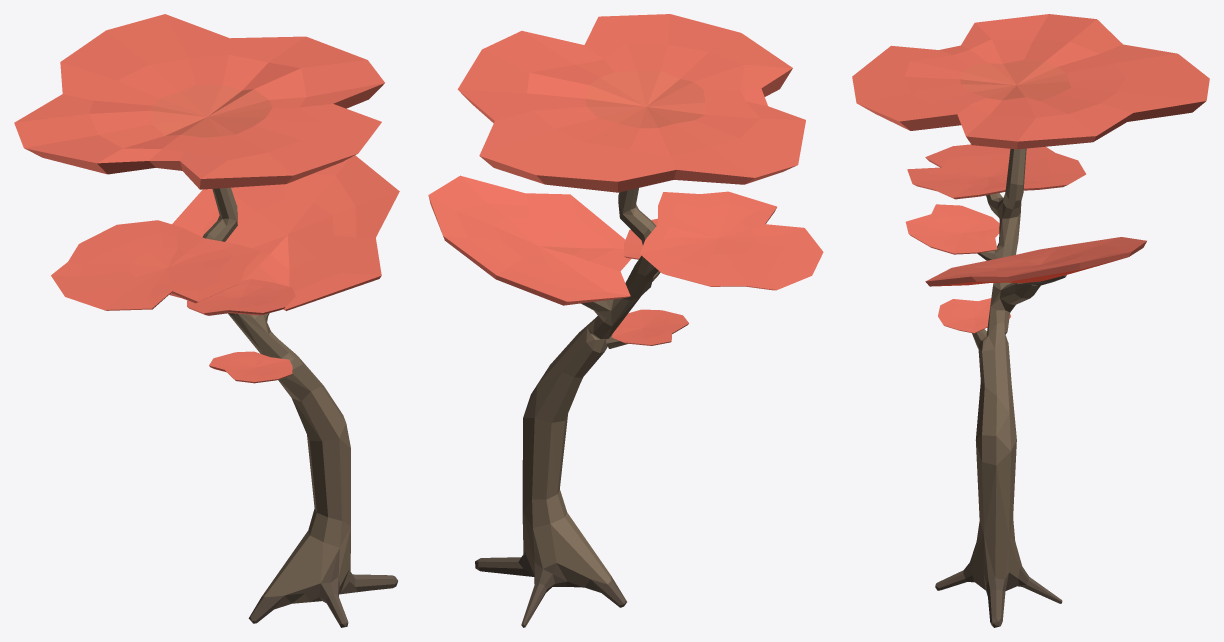
File: SM_Flora_08.glb
3 renders of one model, left to right at view 1: azimuth 30°, elevation 25°; view 2: azimuth 150°, elevation 25°; view 3: azimuth 270°, elevation 25°, orthographic. The views are drawn at different scales.
Visible parts, largest first — view 1: SM_Flora_08; view 2: SM_Flora_08; view 3: SM_Flora_08.
Part boxes in pixels (left/top/right/bottom): SM_Flora_08: left=14, top=14, right=399, bottom=627; SM_Flora_08: left=428, top=14, right=823, bottom=627; SM_Flora_08: left=852, top=14, right=1209, bottom=627.
Bounding box in the file's own units: 5.24 × 7.56 × 4.99.
1 material, 1 textured.
